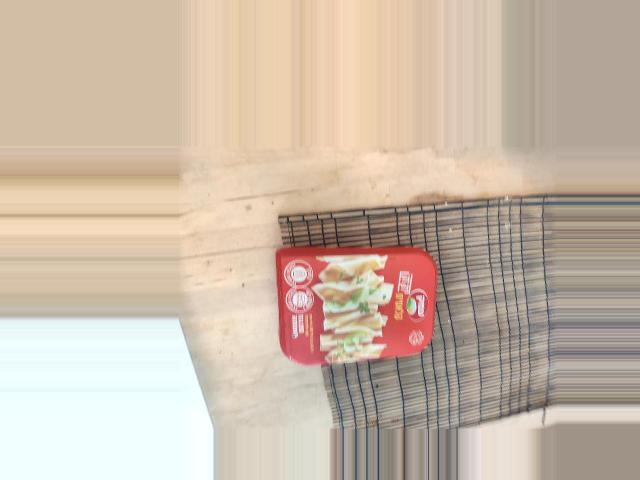cheese: (363, 263, 492, 444)
